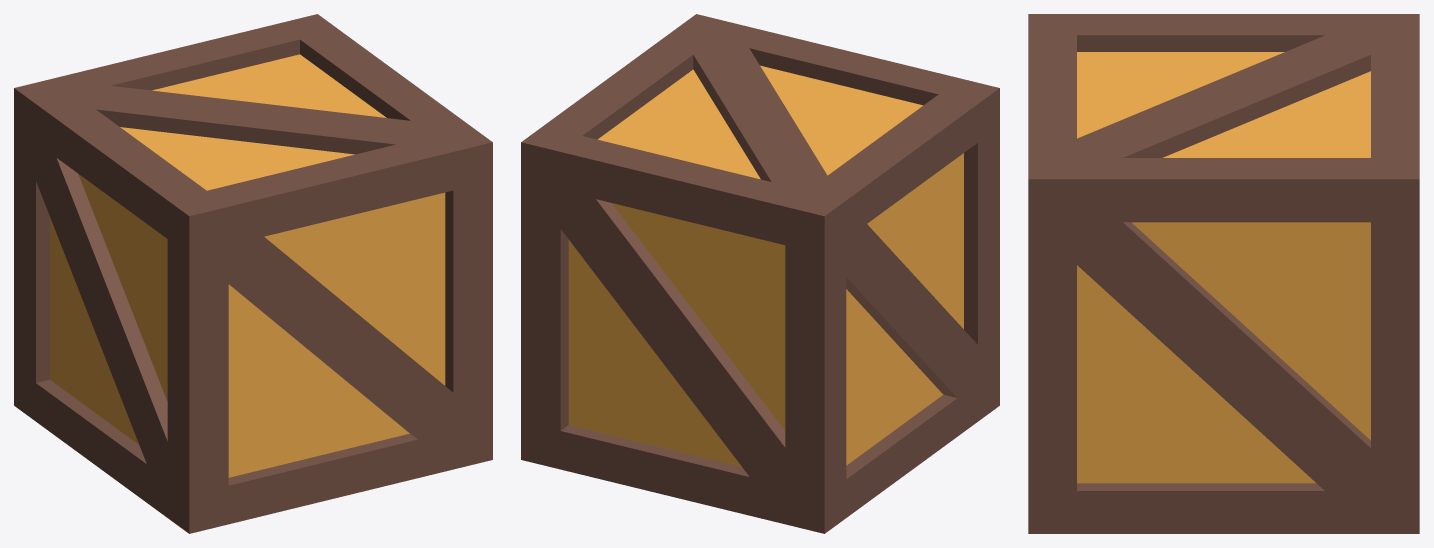
File: wooden box.fbx
3 renders of one model, left to right at view 1: azimuth 30°, elevation 25°; view 2: azimuth 150°, elevation 25°; view 3: azimuth 270°, elevation 25°, orthographic. The views are drawn at different scales.
Visible parts, largest first — view 1: wooden_box; view 2: wooden_box; view 3: wooden_box.
Boxes of the visible parts, x1,y1,x2,y2 form: wooden_box: (14, 14, 492, 533); wooden_box: (521, 14, 999, 533); wooden_box: (1028, 14, 1419, 533).
Size of the model in its own units: 214 by 214 by 214.
1 material, 1 textured.
